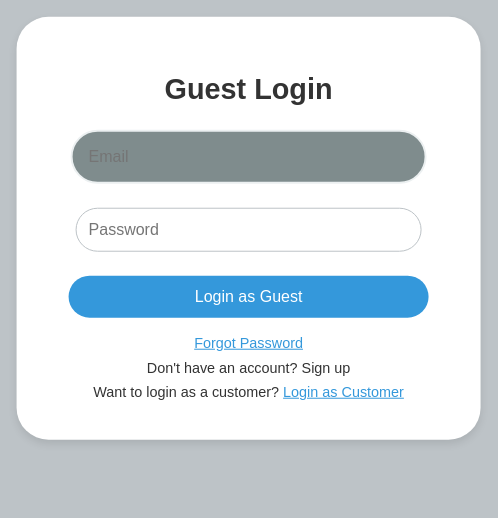
Test: GuestLogin › displays error when email and password are not provided
Click the button "Login as Guest" at (249, 297), box [69,276,429,318]
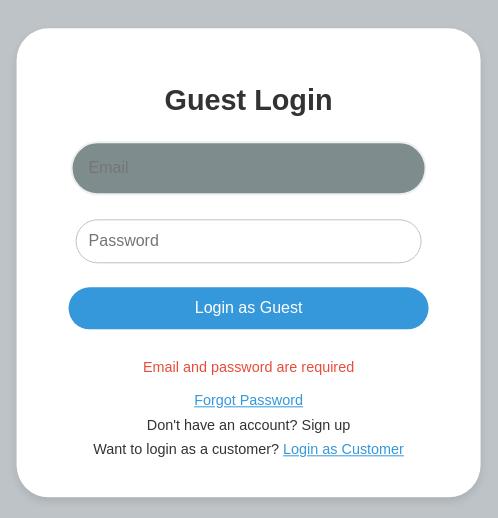
Check: the text "Email and password are required" is shown, box [143,360,354,376]
